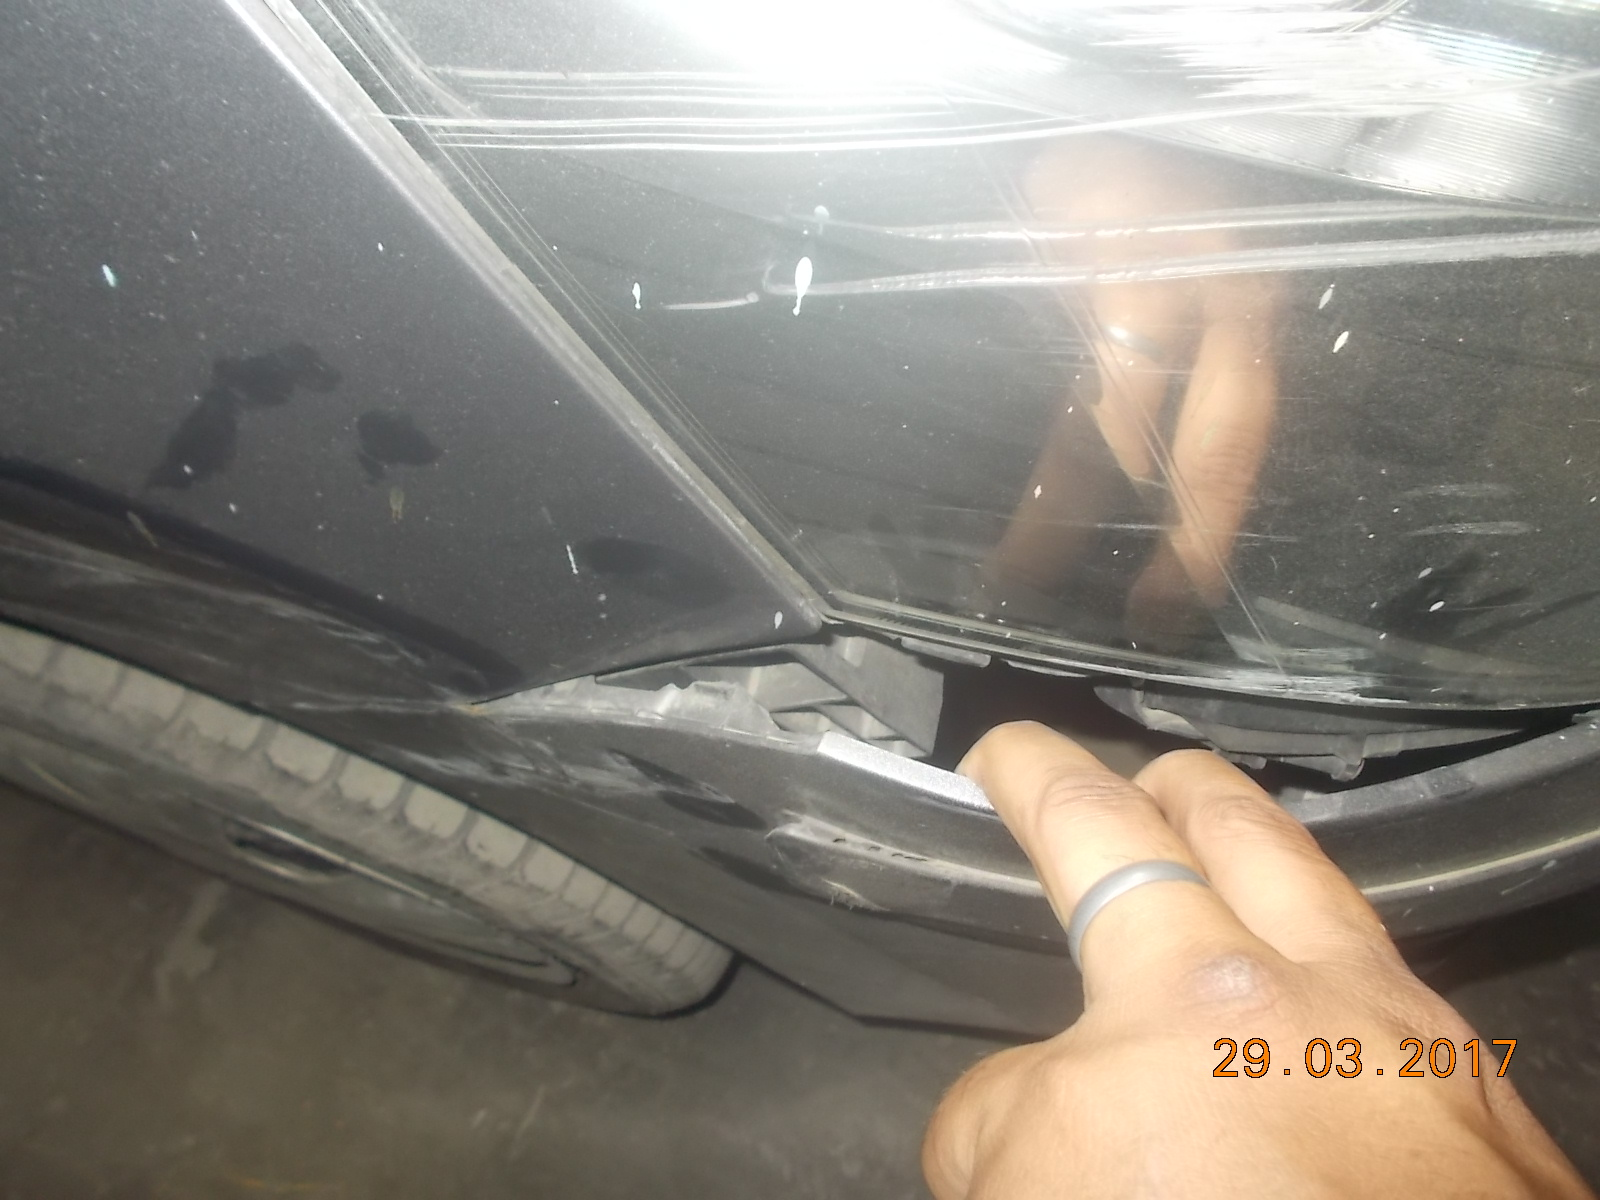Scratch_or_spot: (915, 357, 1077, 662)
